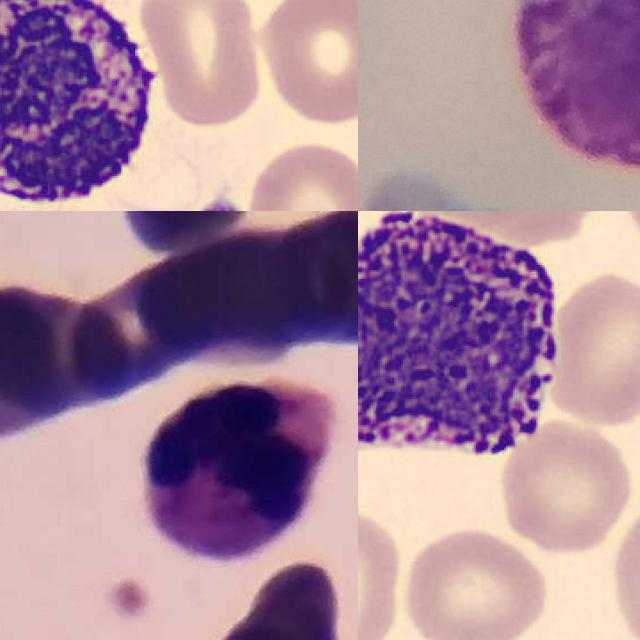Basophil: (358, 211, 570, 480), (0, 0, 167, 211), (521, 0, 640, 169)
Neutrophil: (141, 377, 336, 562)
Platelets: (190, 193, 247, 211)
RBC: (496, 417, 638, 558), (397, 526, 554, 640), (138, 0, 268, 132), (543, 266, 640, 430), (250, 0, 358, 128), (238, 133, 357, 211), (358, 504, 406, 640), (605, 494, 640, 640)
